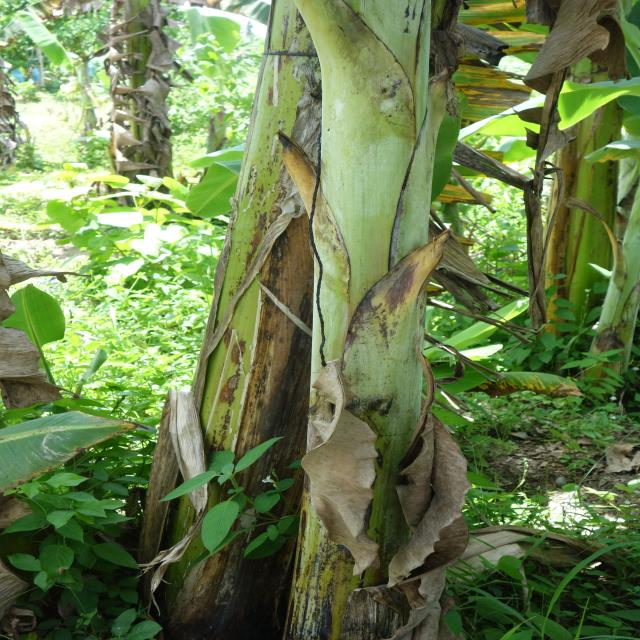Banana-plant: (258, 0, 501, 640), (146, 0, 316, 639)
